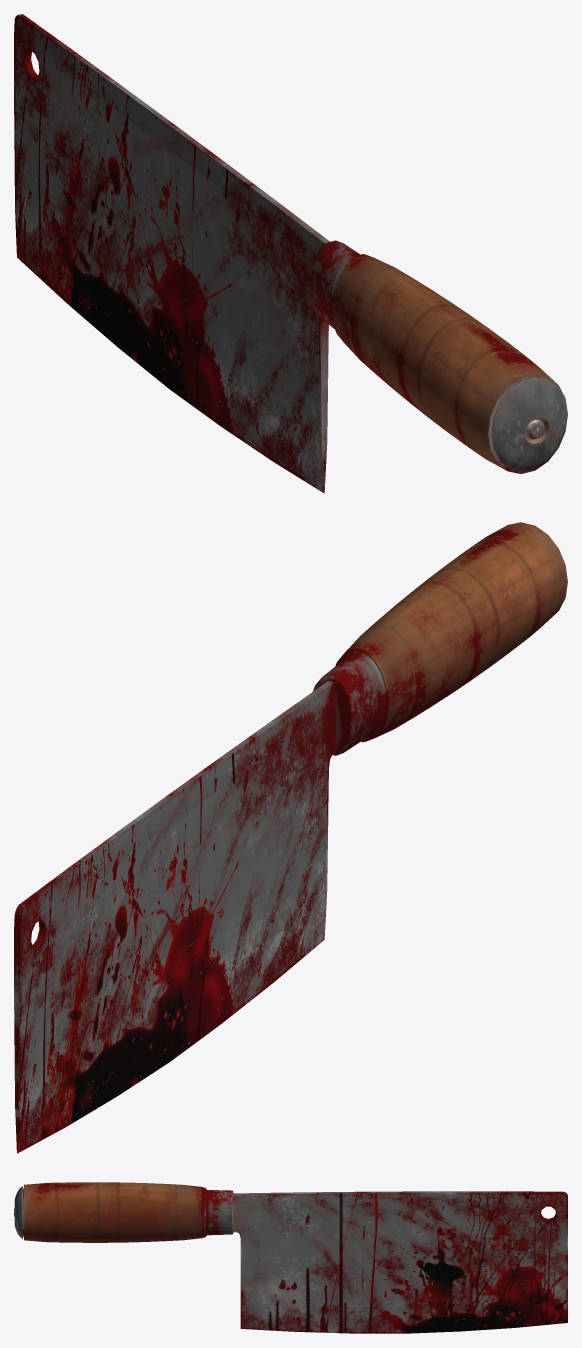
Rendered from a_bloody_kitchen_knife.glb.
3 views of the same model, one above another, from view 1: azimuth 30°, elevation 25°; view 2: azimuth 150°, elevation 25°; view 3: azimuth 270°, elevation 25° (orthographic). The views are drawn at different scales.
Size of the model in its own units: 18.17 by 58.21 by 195.
Materials: 1 (1 with a texture image).
